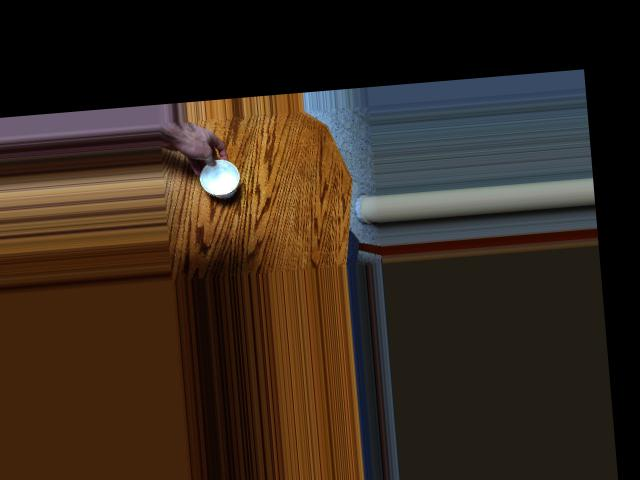cotage: (198, 155, 247, 198)
